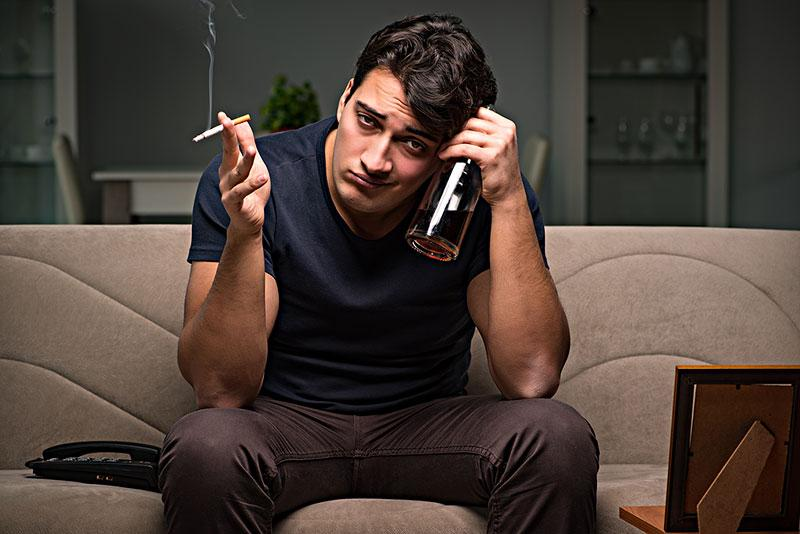smoke: (190, 112, 254, 145)
